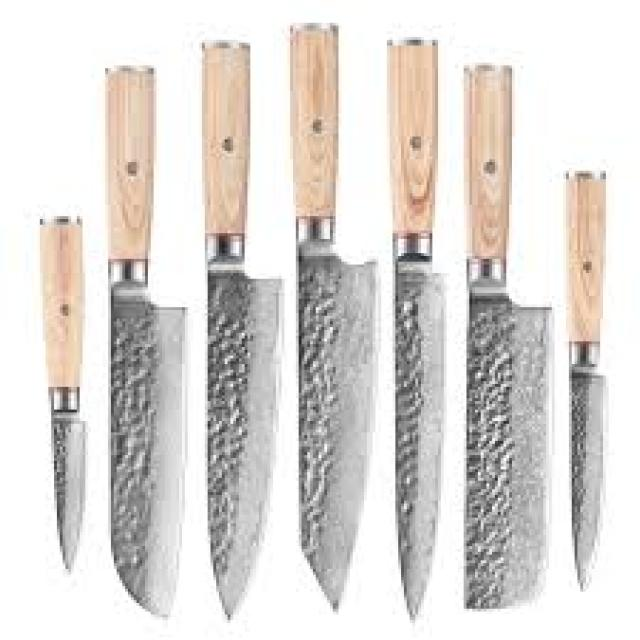Knife: (288, 20, 376, 609), (461, 59, 549, 608), (199, 37, 279, 620), (102, 63, 182, 617), (384, 34, 441, 620), (563, 168, 606, 589), (37, 213, 85, 569)
